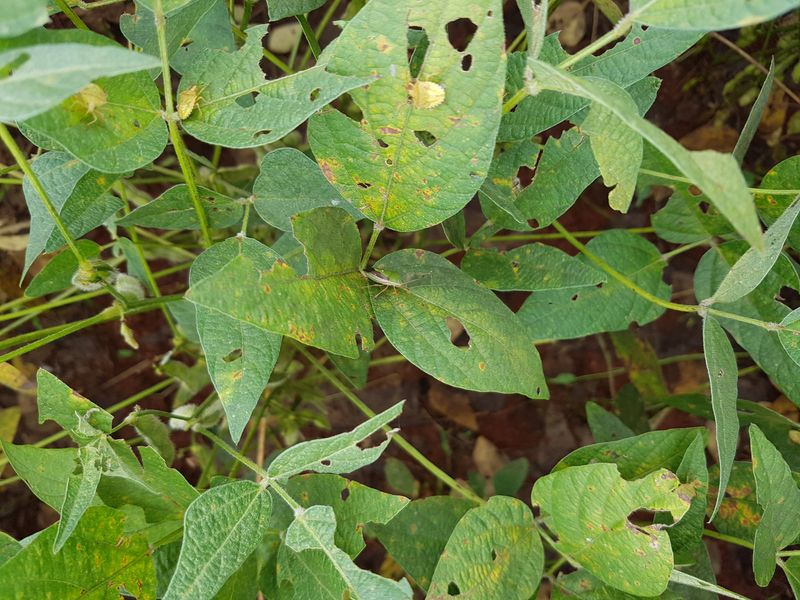Euschistus_heros_ninfa: (61, 73, 117, 130), (394, 69, 456, 119), (162, 75, 216, 126)
